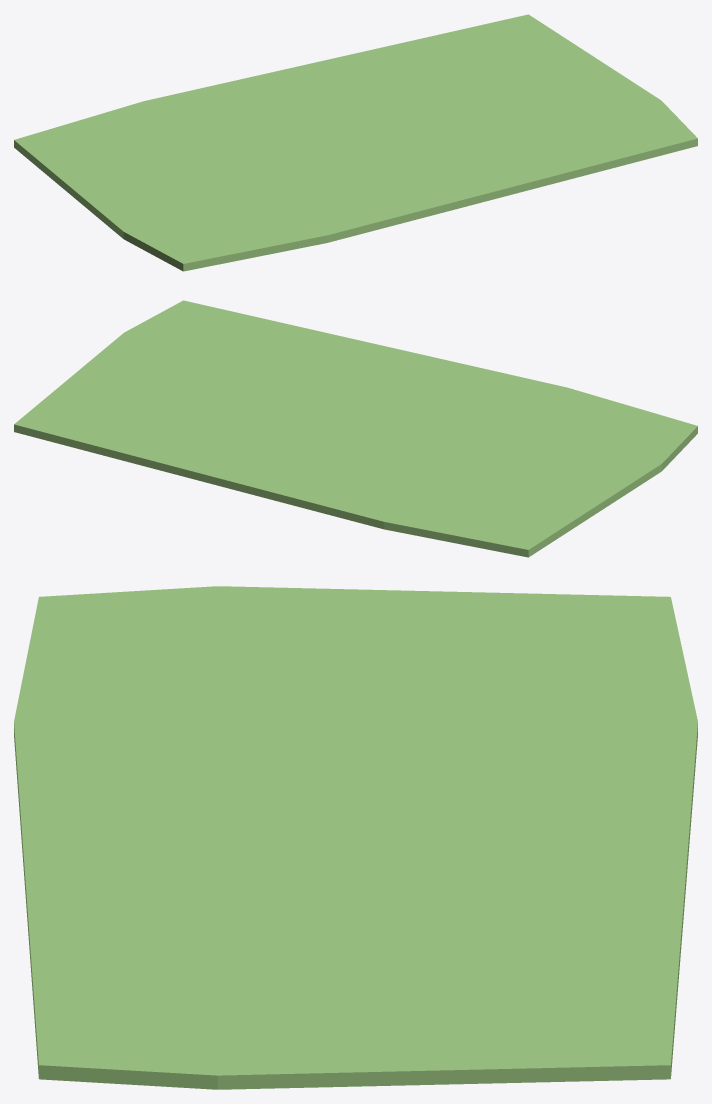
The model's file is Napkin.fbx.
3 views of the same model, one above another, from view 1: azimuth 30°, elevation 25°; view 2: azimuth 150°, elevation 25°; view 3: azimuth 270°, elevation 25° (orthographic). The views are drawn at different scales.
Parts seen in each view (by area): view 1: Napkin; view 2: Napkin; view 3: Napkin.
Part boxes in pixels (box(x1,y1,x2,y2)): Napkin: box(14, 14, 697, 271); Napkin: box(14, 300, 697, 557); Napkin: box(14, 586, 697, 1089).
Bounding box in the file's own units: 73.88 × 1 × 43.64.
